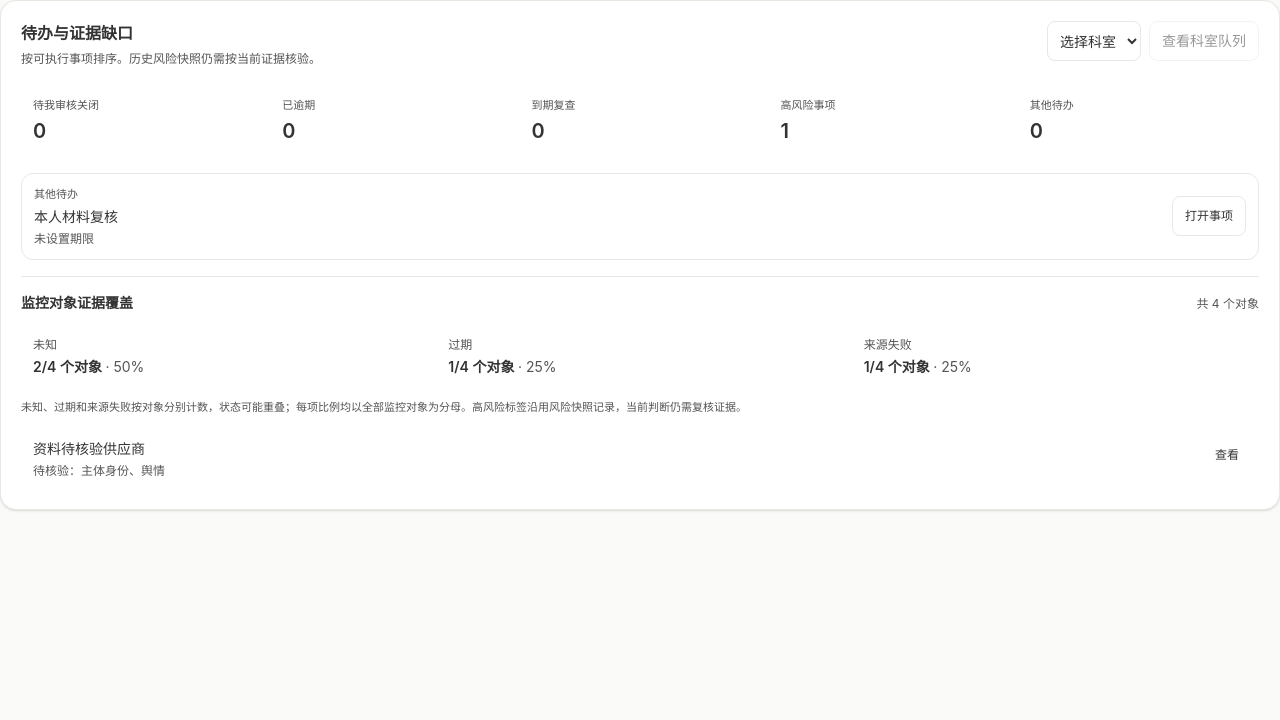
WorkQueue › uses a separate query when a manager switches to another department
Expected: the link "本人材料复核" is shown, x1=34 y1=206 x2=118 y2=226
Select "D2" in the dropdown named "选择科室" at x=1094, y=41, box x1=1047 y1=21 x2=1141 y2=61
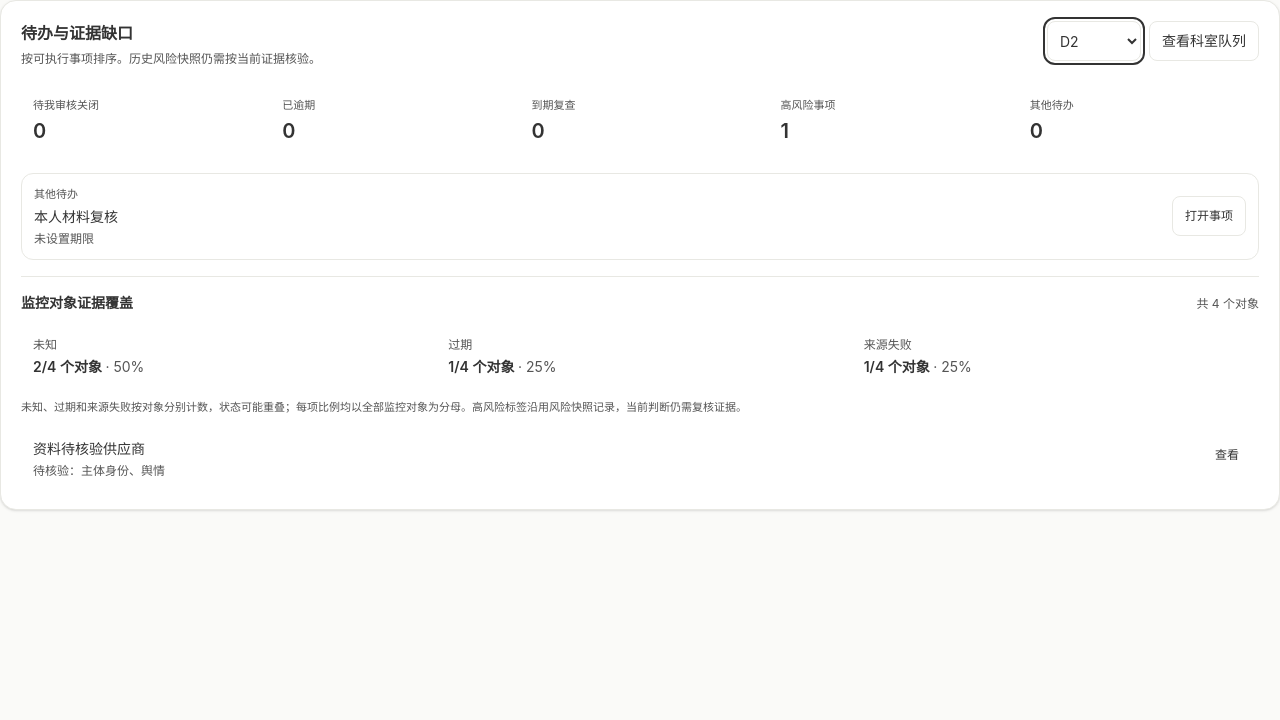
Click the button "查看科室队列" at x=1204, y=41, box x1=1149 y1=21 x2=1259 y2=61
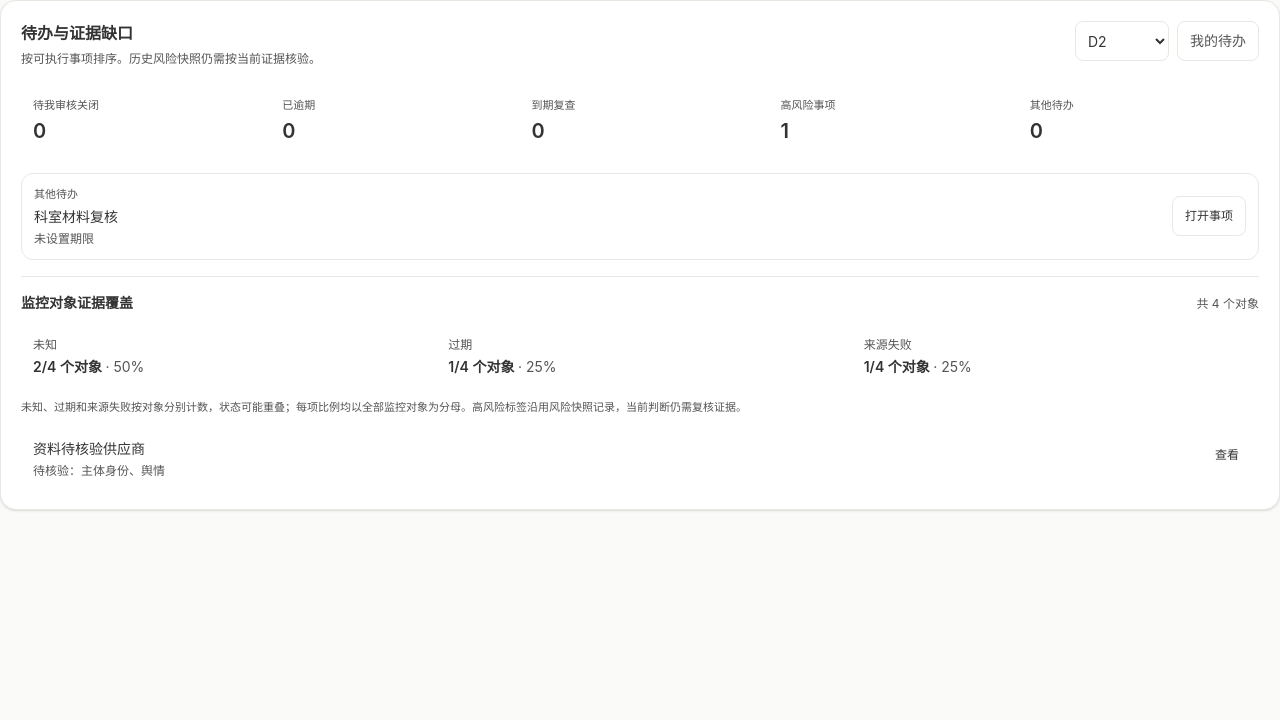
Expected: the link "本人材料复核" is gone
